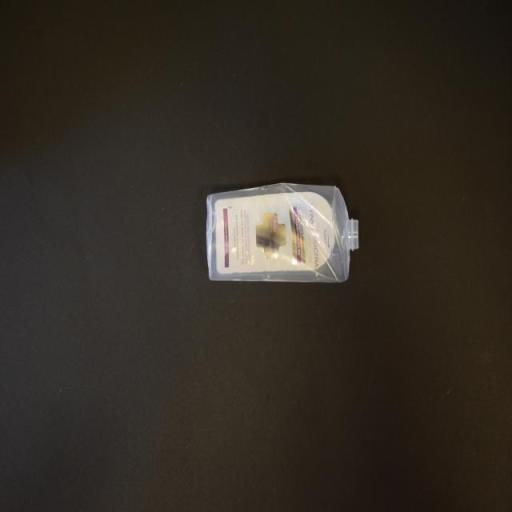plastic: (207, 179, 361, 289)
